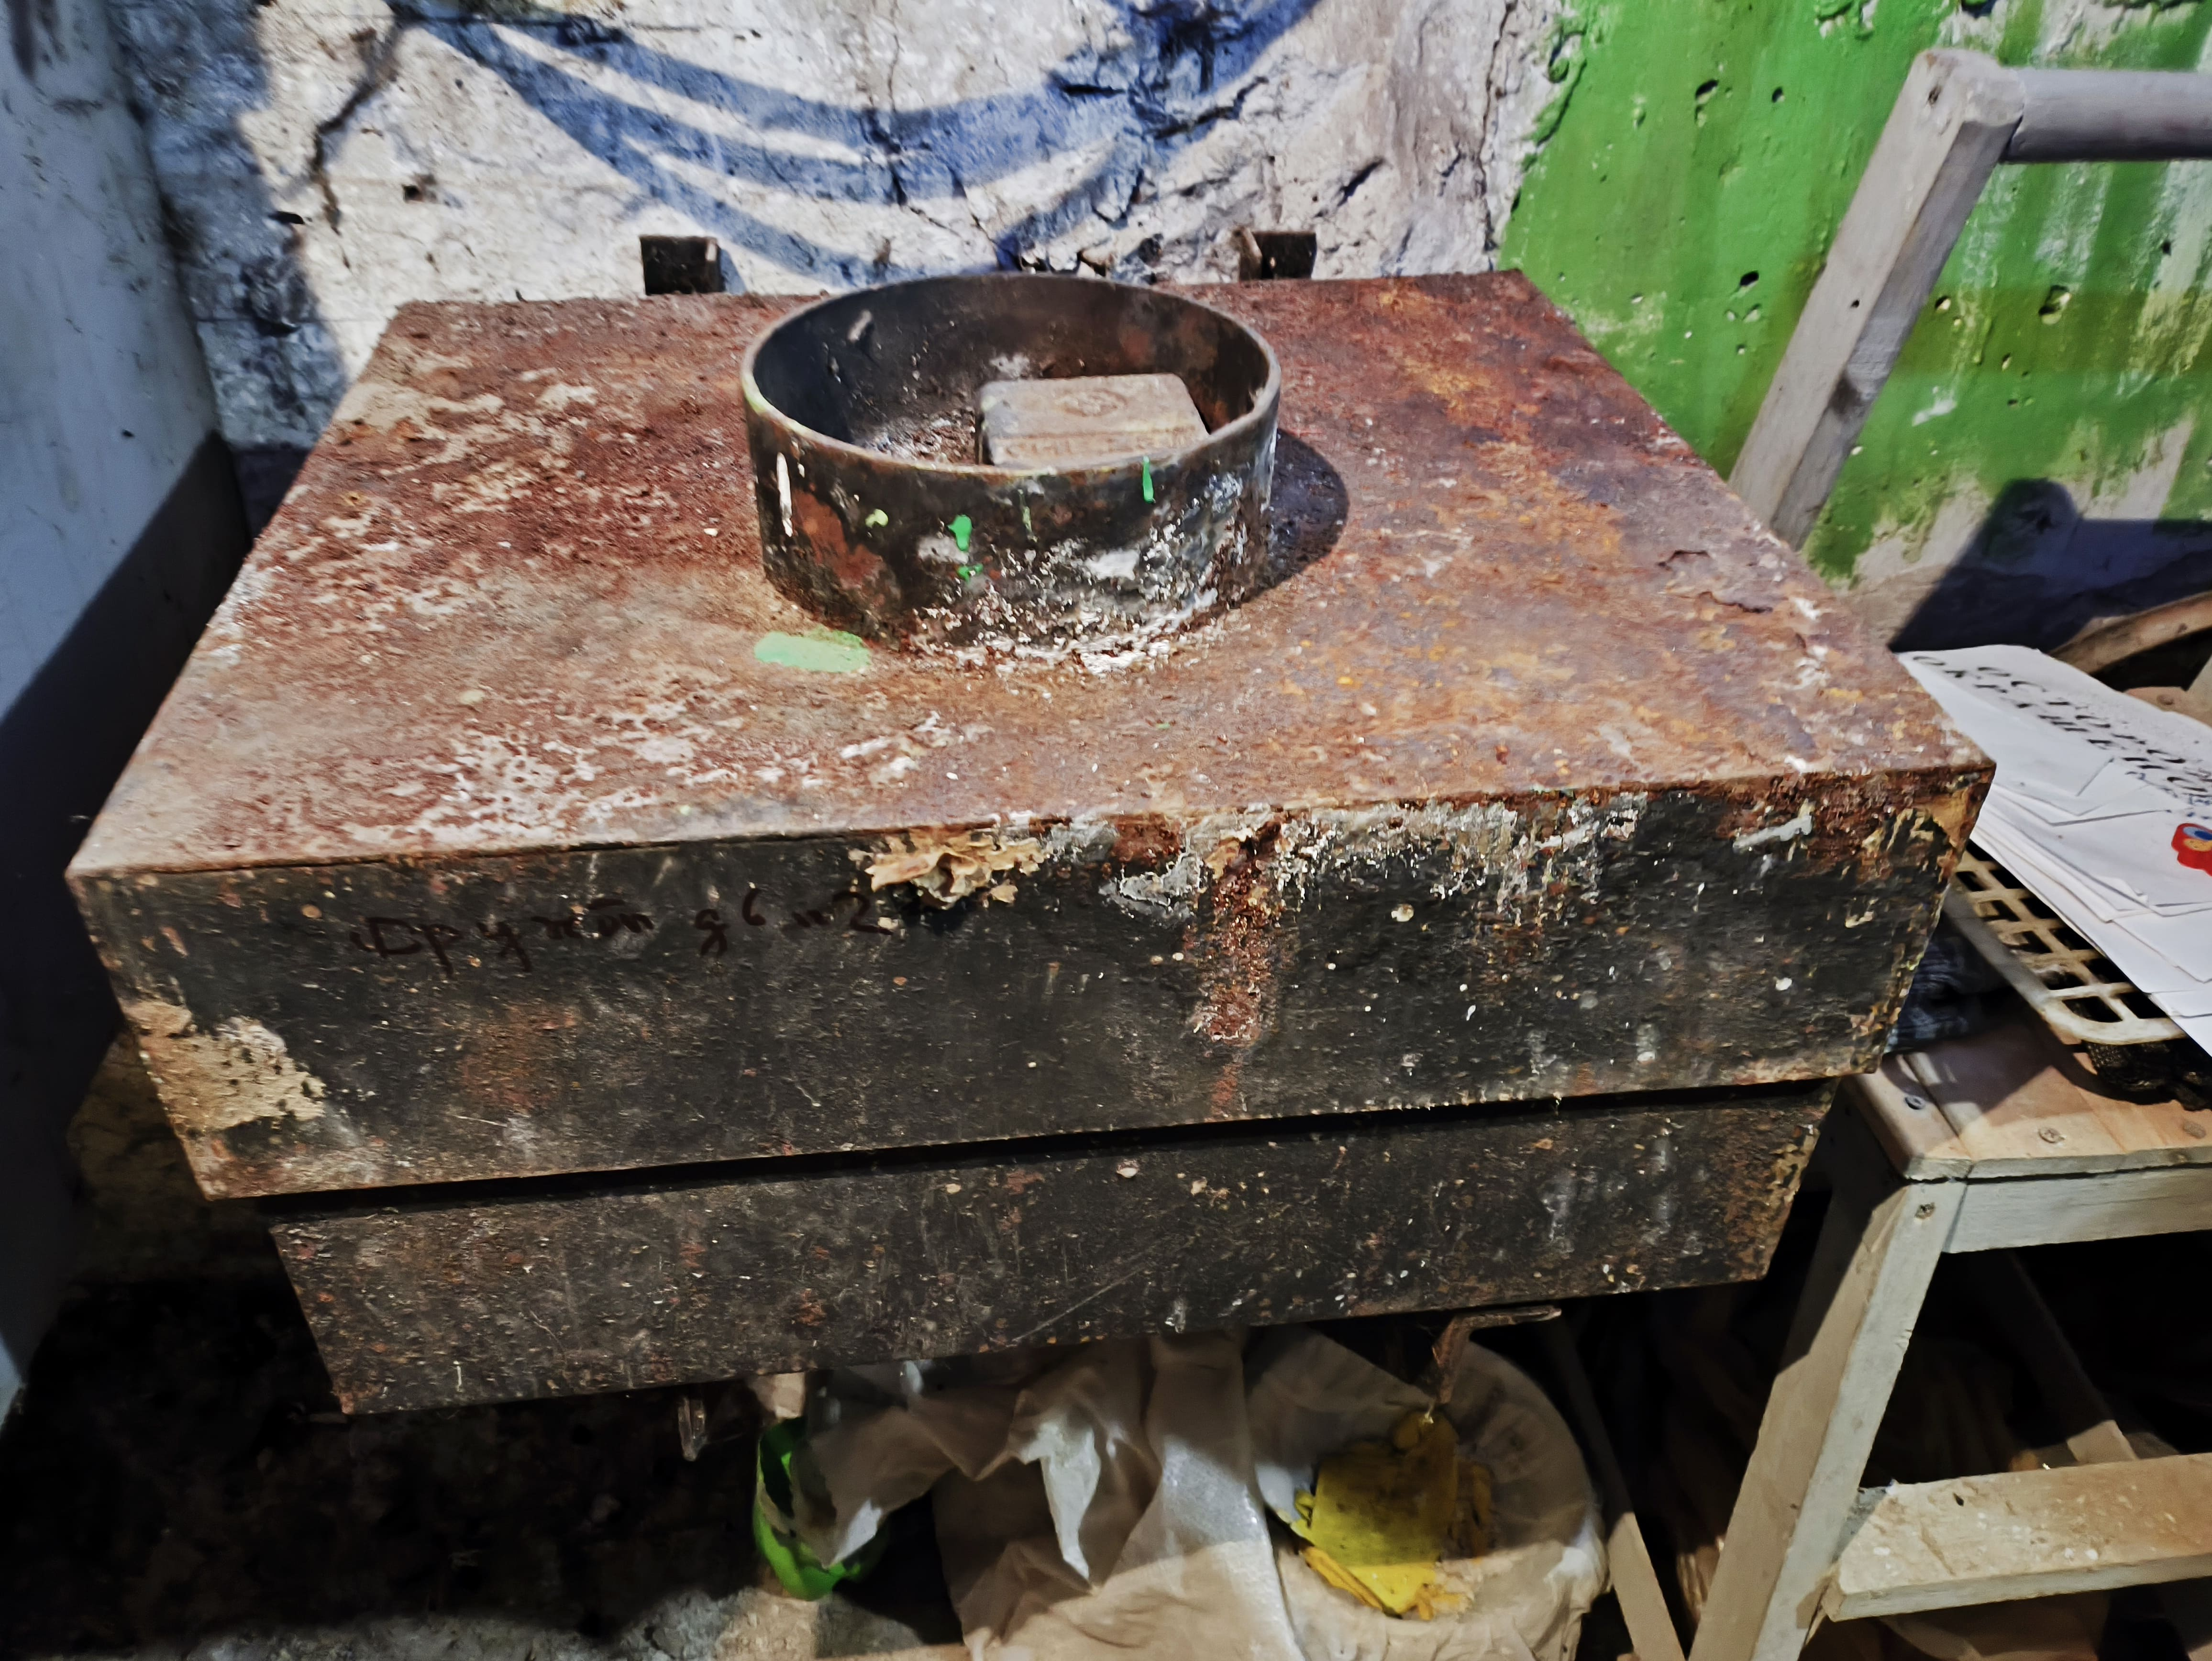shta-ps: (49, 256, 2004, 1436)
